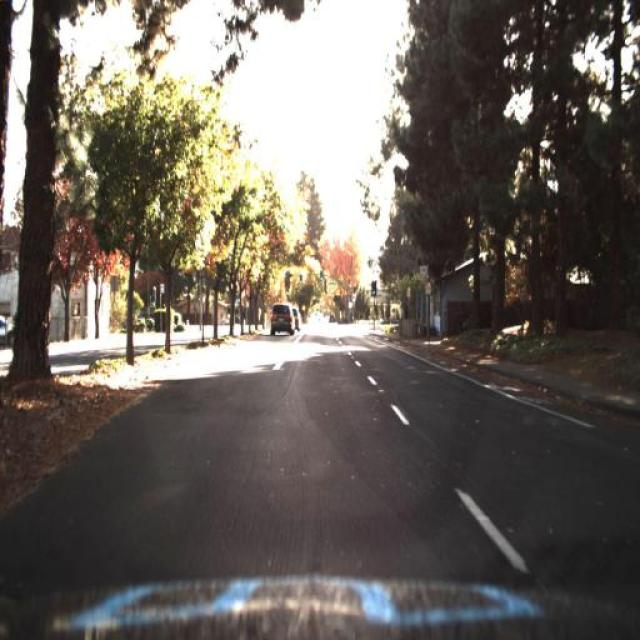car: (266, 300, 294, 336), (295, 307, 301, 335)
trafficLight-Green: (368, 280, 378, 300)
trafficLight-GreenLeft: (317, 266, 327, 290), (370, 278, 380, 302), (294, 267, 304, 289), (233, 289, 243, 309)
